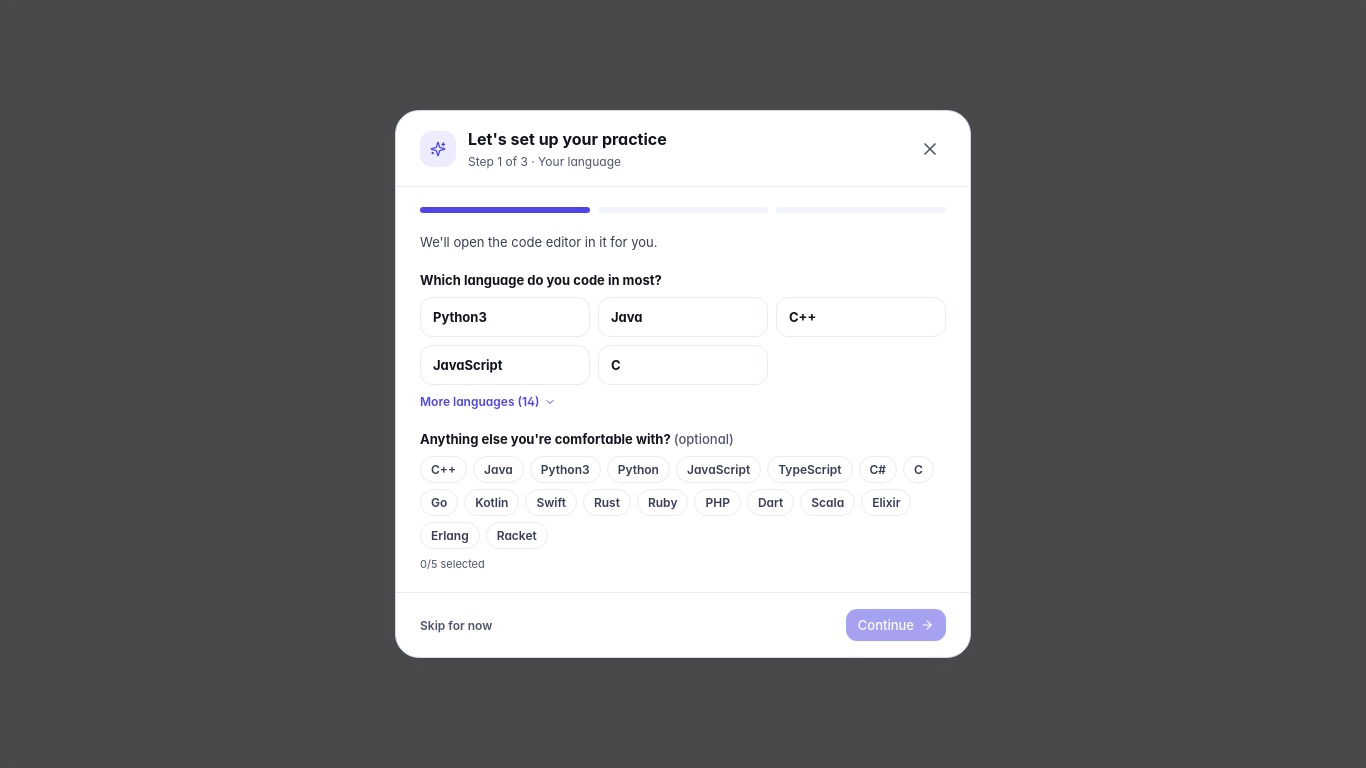
Test: the first-login wizard › caps the 'also comfortable with' list so it stays a preference
Click the radio button labelled "Python3": [505, 317] box top-left (420, 297), bottom-right (590, 337)
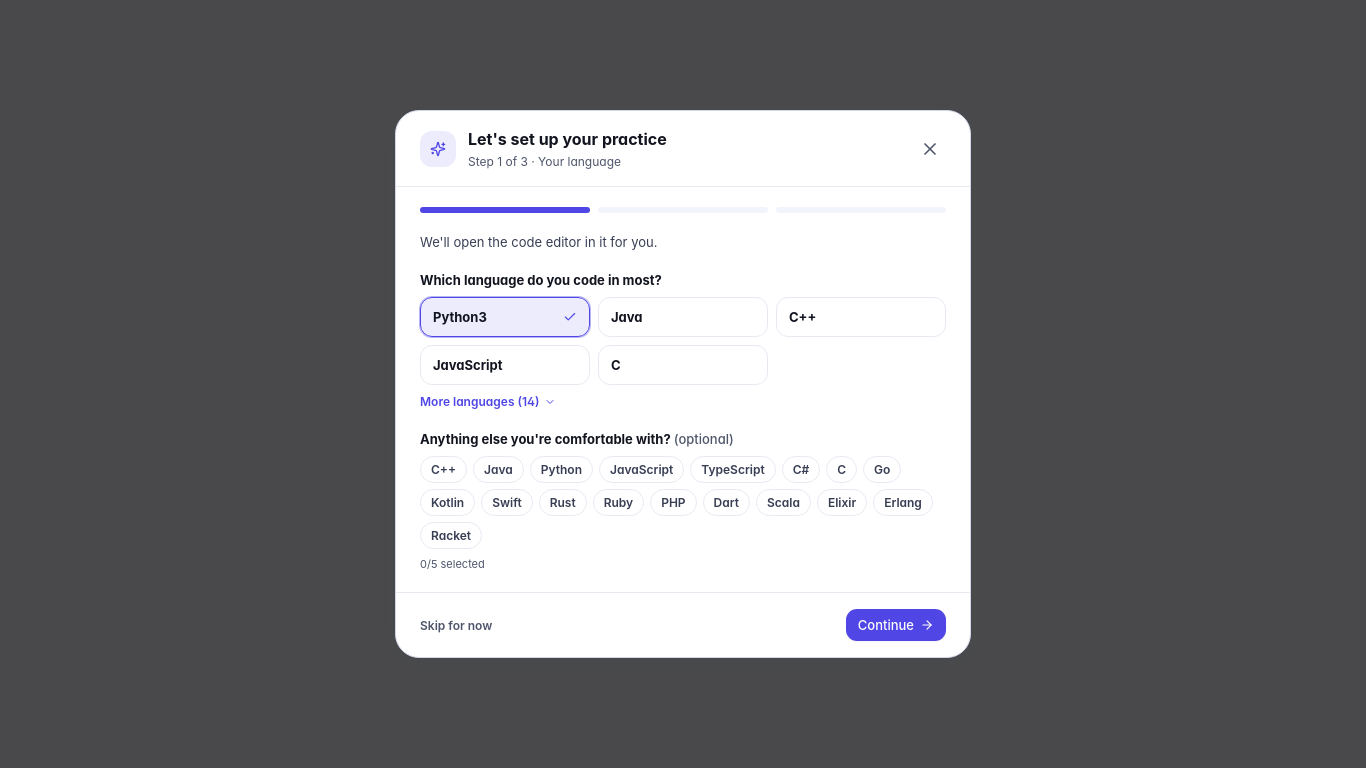
Click the button "C++": [444, 470] box top-left (420, 456), bottom-right (467, 483)
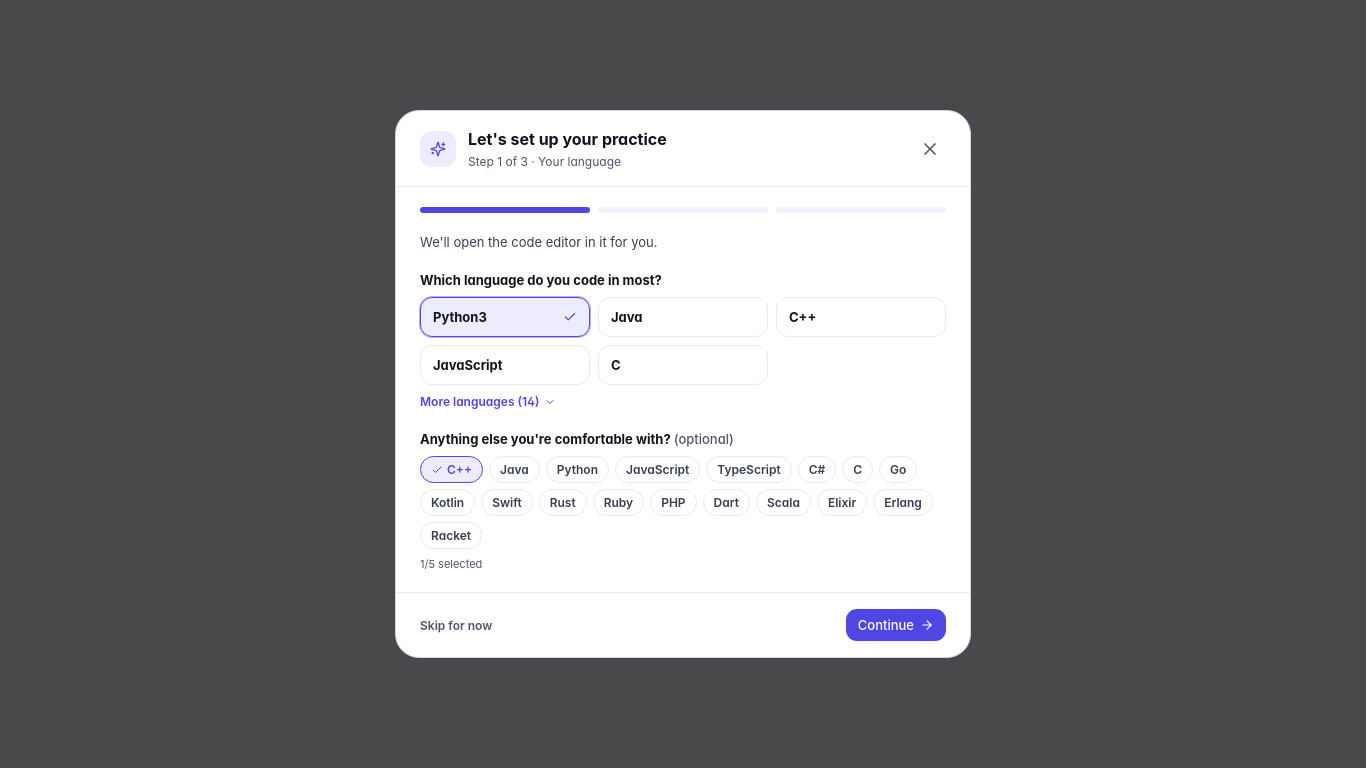
Click the button "Java": [514, 470] box top-left (489, 456), bottom-right (540, 483)
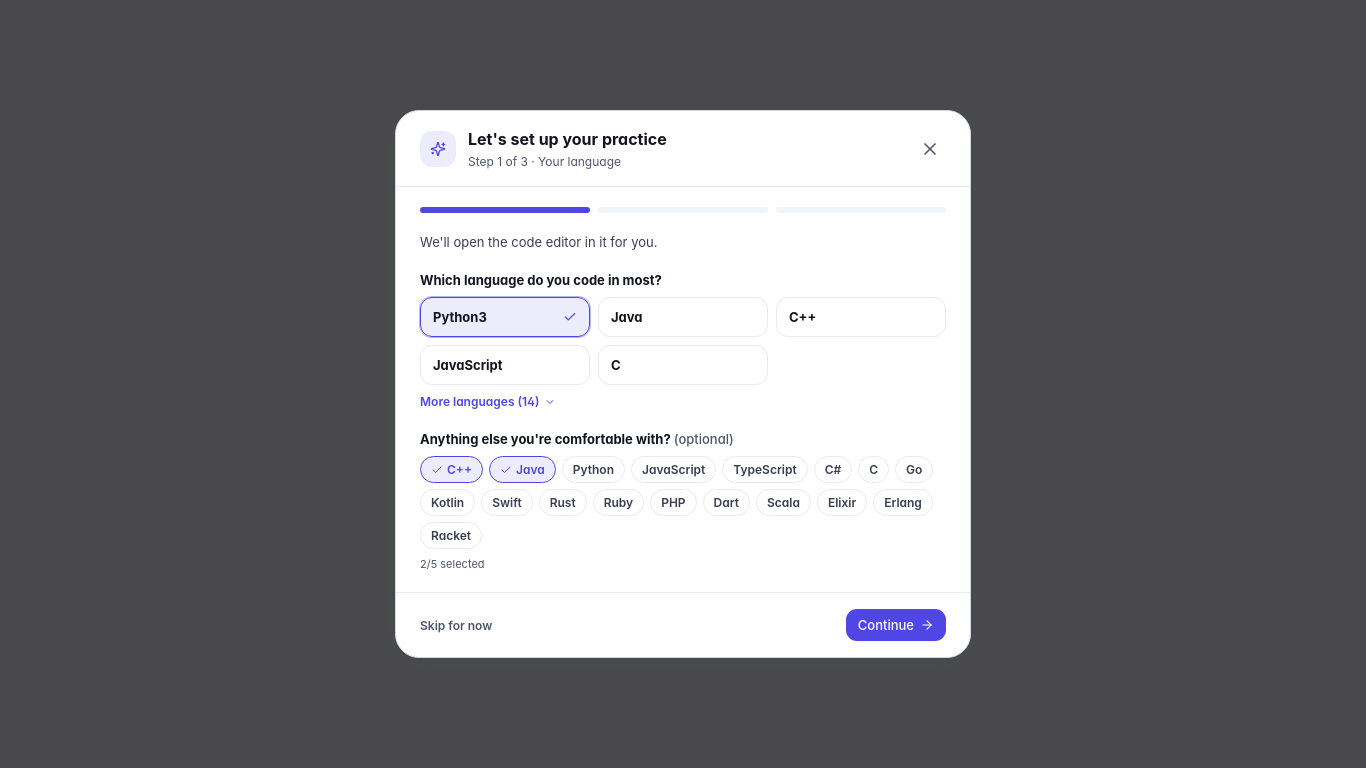
Click the button "Python": [593, 470] box top-left (562, 456), bottom-right (625, 483)
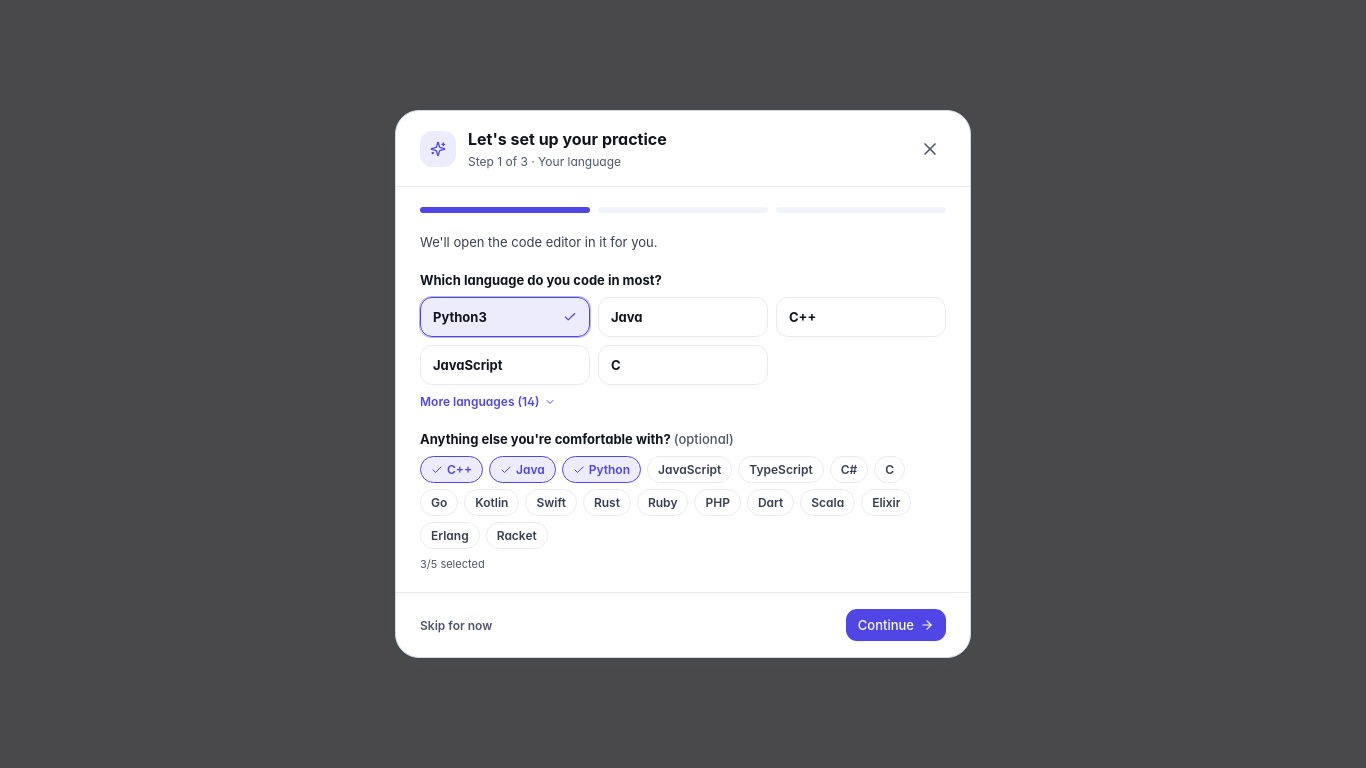
Click the button "JavaScript": [690, 470] box top-left (647, 456), bottom-right (732, 483)
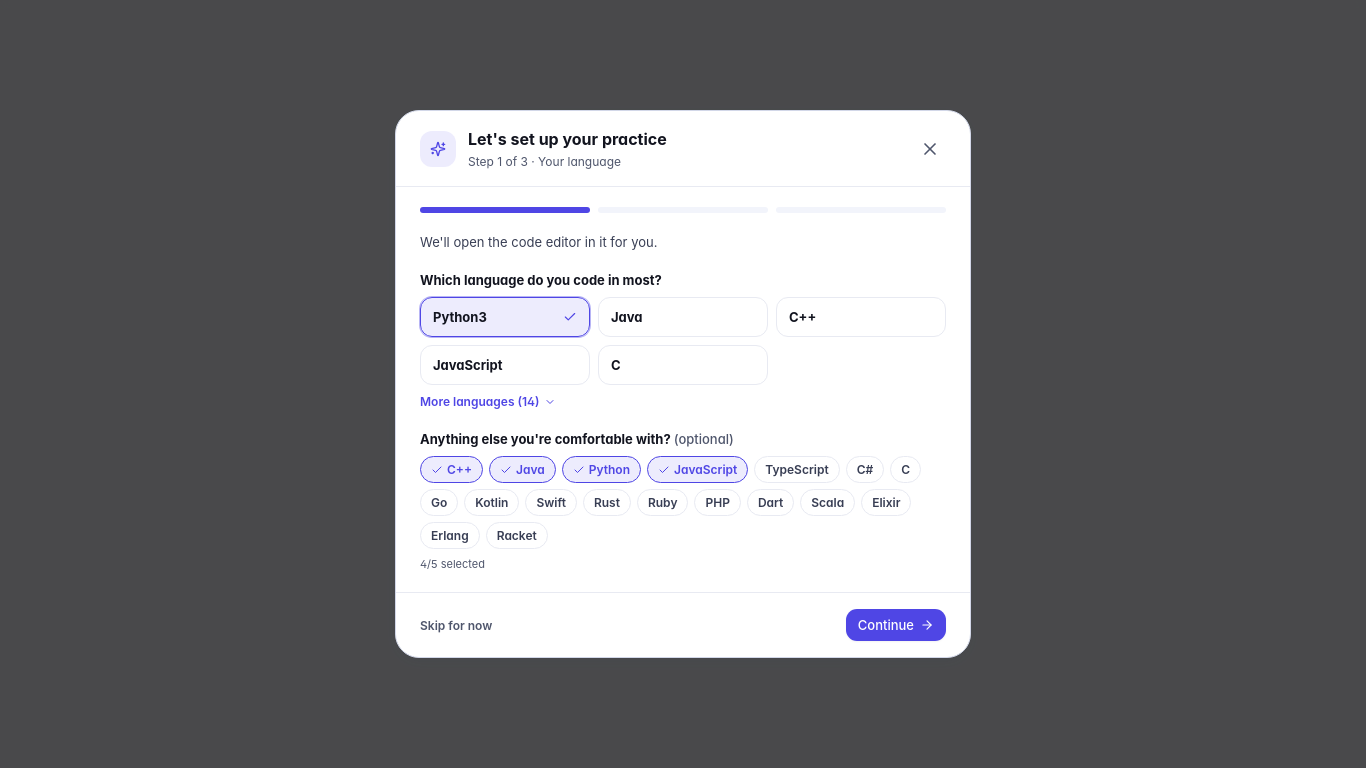
Click the button "TypeScript": [797, 470] box top-left (754, 456), bottom-right (840, 483)
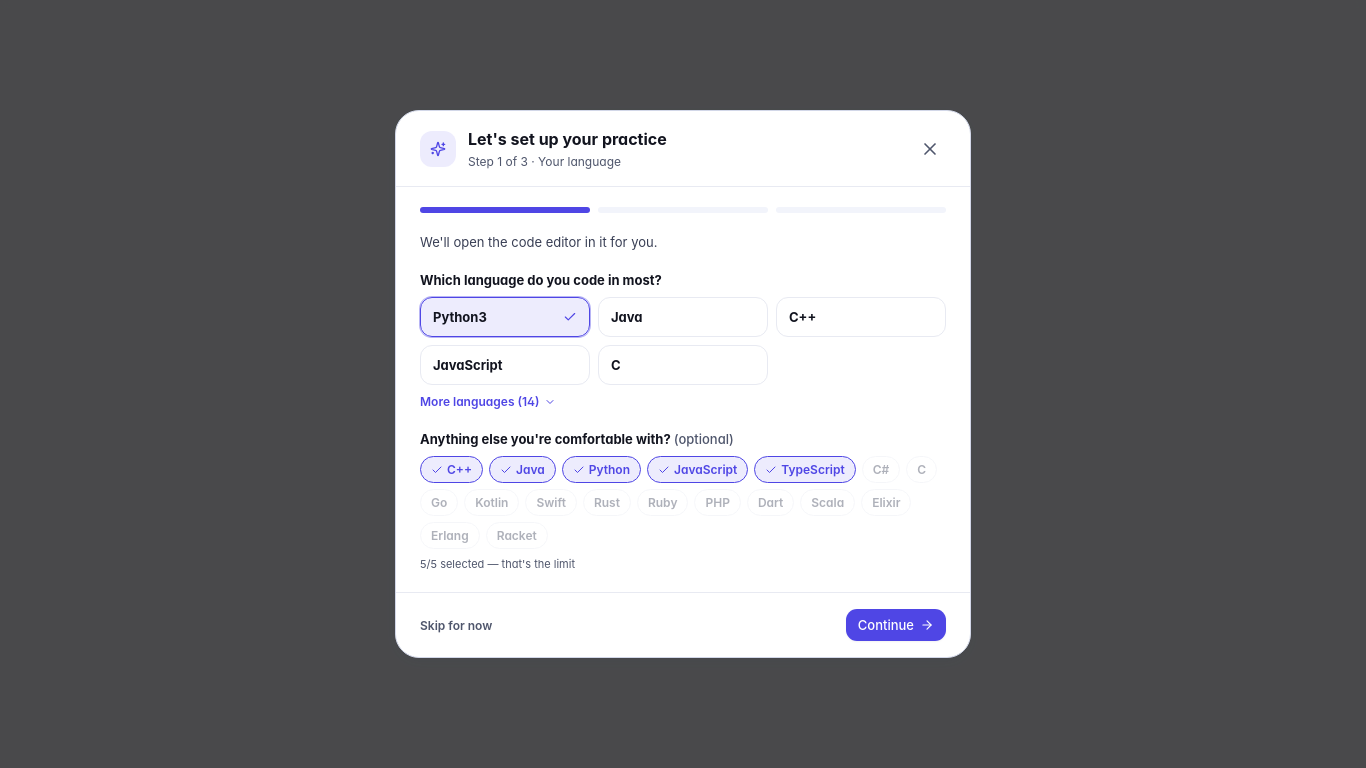
Expected: the text "5/5 selected — that's the limit" is shown, top-left (420, 557), bottom-right (575, 571)
Expected: the button "C#" is disabled, top-left (862, 456), bottom-right (900, 483)
Expected: the button "C" is disabled, top-left (906, 456), bottom-right (937, 483)
